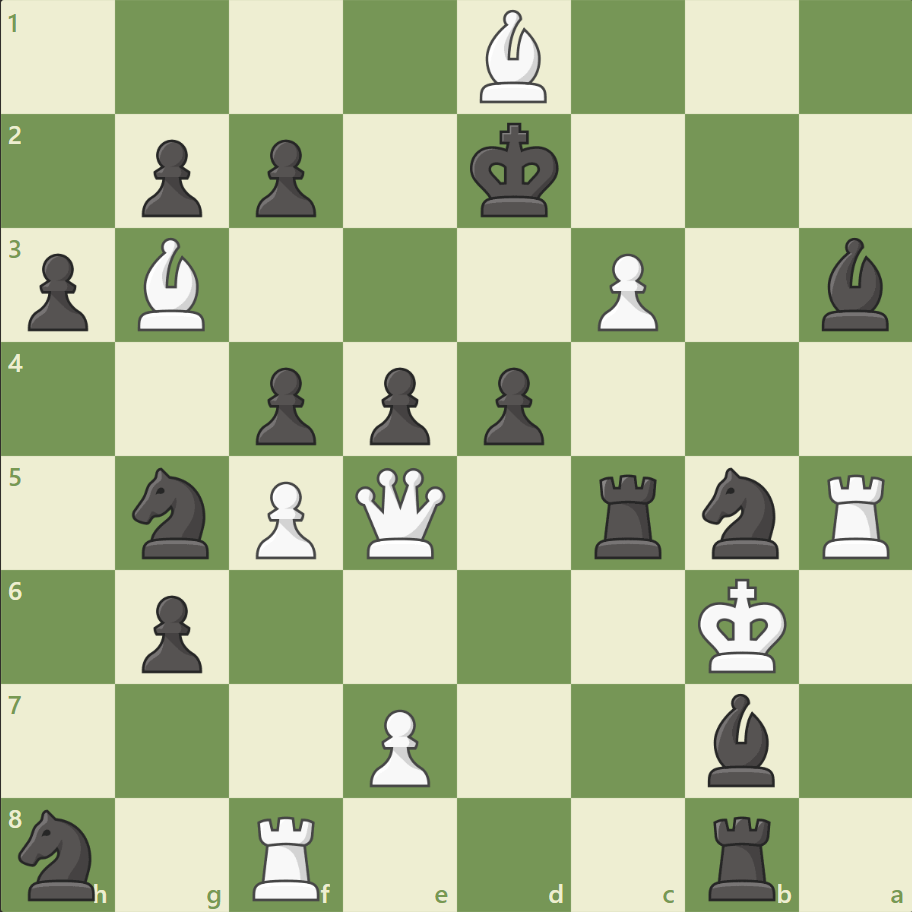B: (131, 233, 215, 336), (471, 6, 555, 109)
K: (692, 571, 792, 679)
P: (247, 473, 322, 564), (361, 700, 435, 791), (588, 246, 662, 337)
Q: (351, 463, 450, 562)
R: (246, 806, 329, 904), (814, 466, 897, 563)
b: (698, 687, 782, 790), (812, 233, 896, 336)
k: (465, 117, 565, 225)
n: (124, 461, 222, 564), (692, 461, 789, 564), (11, 802, 108, 904)
p: (133, 586, 208, 677), (474, 359, 549, 450), (247, 359, 322, 450), (20, 246, 95, 337), (247, 132, 322, 223), (133, 132, 208, 223), (361, 359, 435, 450)
r: (700, 806, 783, 904), (587, 466, 670, 563)
